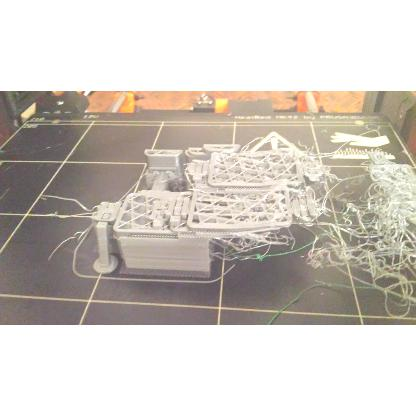fail: (318, 160, 416, 310)
